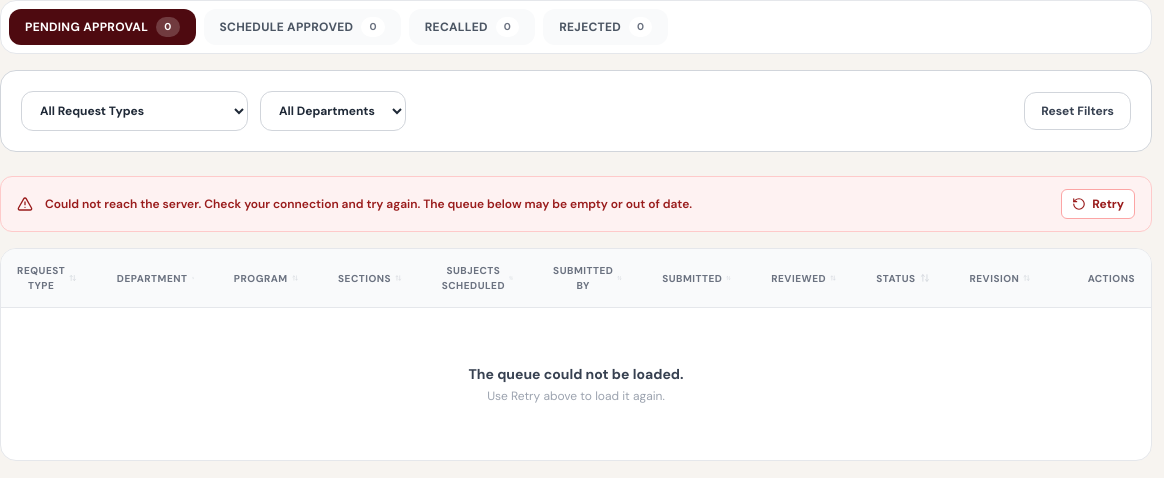
Test: ScheduleApprovalPage › says so when the queue fails to load instead of showing an empty queue
The width and height of the screenshot is (1164, 478).
Expected: the message is shown, [0,176,1152,232]
What coordinates should you click on to do the following:
click the button "Retry"
I would click on:
 (1098, 204)
Its box is [1061,189,1135,219].
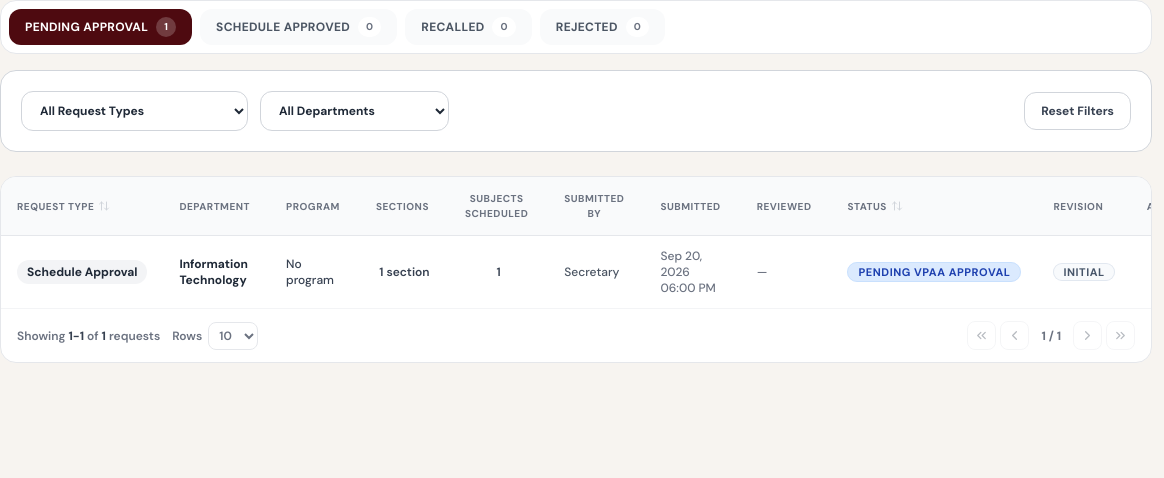
Now the message is gone
Now the button "Pending Approval 1" is shown, box [9,9,192,45]
